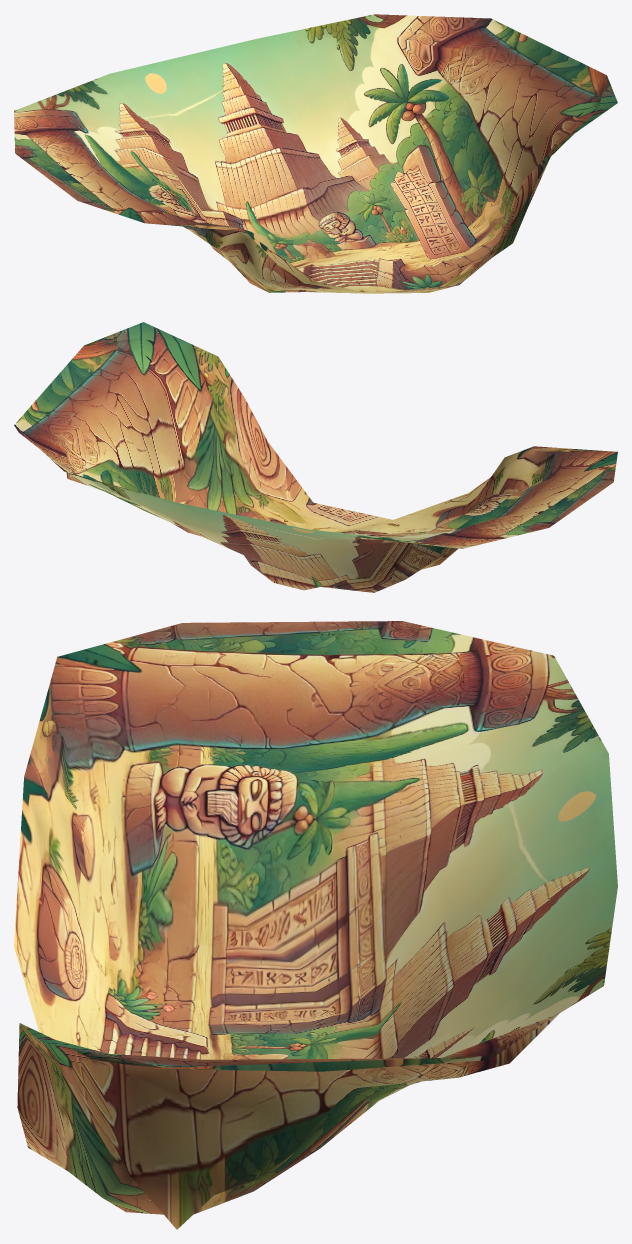
Rendered from BackgroundFBX.fbx.
3 renders of one model, top to bottom at view 1: azimuth 30°, elevation 25°; view 2: azimuth 150°, elevation 25°; view 3: azimuth 270°, elevation 25°, orthographic. The views are drawn at different scales.
Visible parts, largest first — view 1: DepthMapObj; view 2: DepthMapObj; view 3: DepthMapObj.
Part boxes in pixels (x1=…): DepthMapObj: x1=14, y1=14, x2=617, y2=293; DepthMapObj: x1=14, y1=322, x2=617, y2=592; DepthMapObj: x1=14, y1=621, x2=617, y2=1229.
Size of the model in its own units: 40398 by 11945 by 23000.
1 material, 1 textured.
